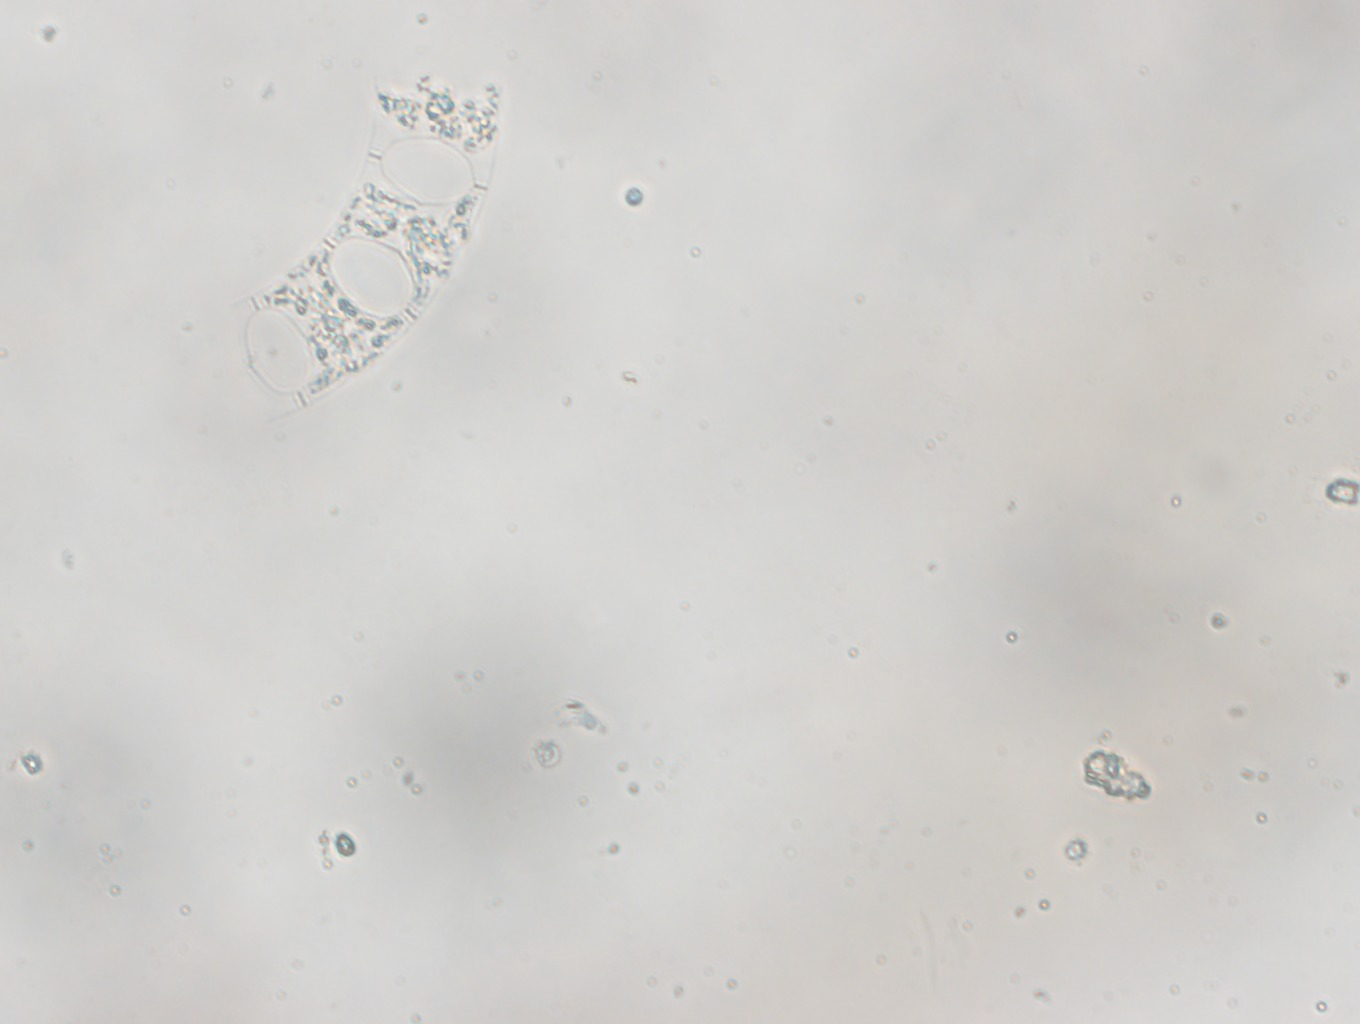eucampia: (228, 61, 504, 413)
